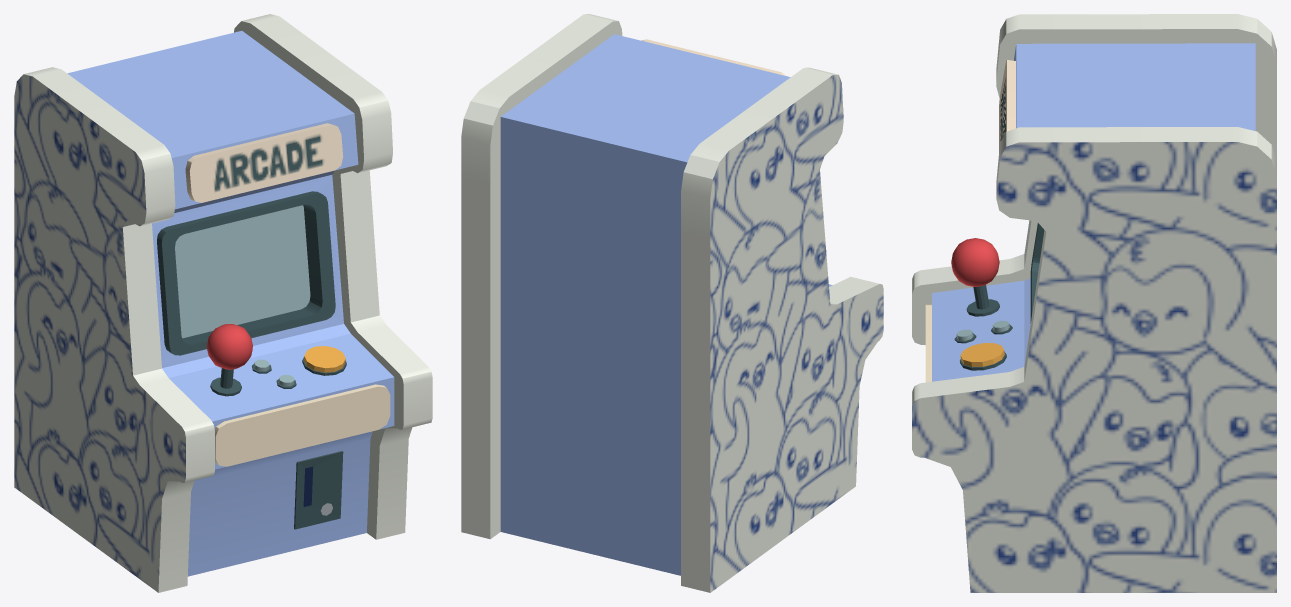
Rendered from Asset_ArcadeMachine.fbx.
3 renders of one model, left to right at view 1: azimuth 30°, elevation 25°; view 2: azimuth 150°, elevation 25°; view 3: azimuth 270°, elevation 25°, orthographic. The views are drawn at different scales.
Visible parts, largest first — view 1: Asset_ArcadeMachine; view 2: Asset_ArcadeMachine; view 3: Asset_ArcadeMachine.
Part boxes in pixels (bbox=[...]): Asset_ArcadeMachine: bbox=[14, 14, 432, 592]; Asset_ArcadeMachine: bbox=[461, 14, 883, 592]; Asset_ArcadeMachine: bbox=[912, 14, 1276, 592].
Size of the model in its own units: 74.24 by 122 by 89.46.
